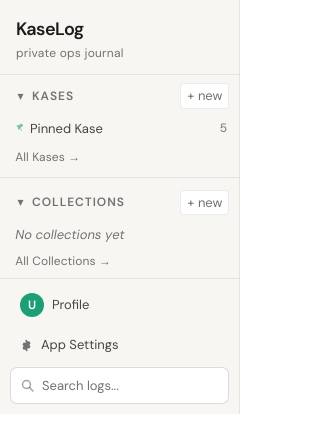
Test case: LeftNav — pinned Kases › right-click context menu shows "Unpin Kase" for pinned kase
Right-click the element with test id "nav-kase-k1" at point(66, 128), box [15,120,227,137]
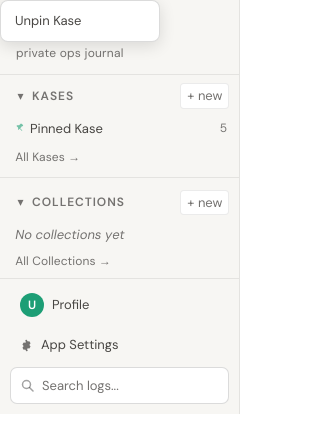
Expected: the button with test id "context-menu-pin-action" reads "Unpin Kase", [5,5,155,36]
